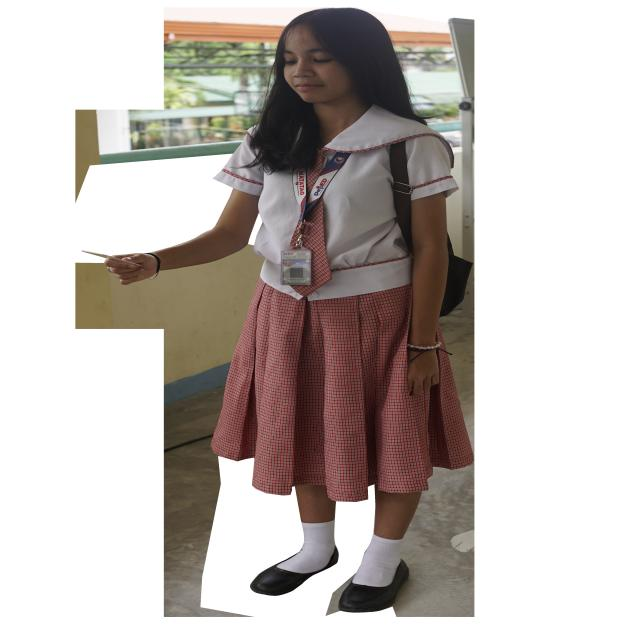id lace: (292, 152, 355, 221)
pologirl: (318, 106, 458, 300), (214, 142, 302, 299)
shoes: (250, 548, 338, 596), (338, 560, 409, 613)
skirt: (211, 280, 473, 502)
